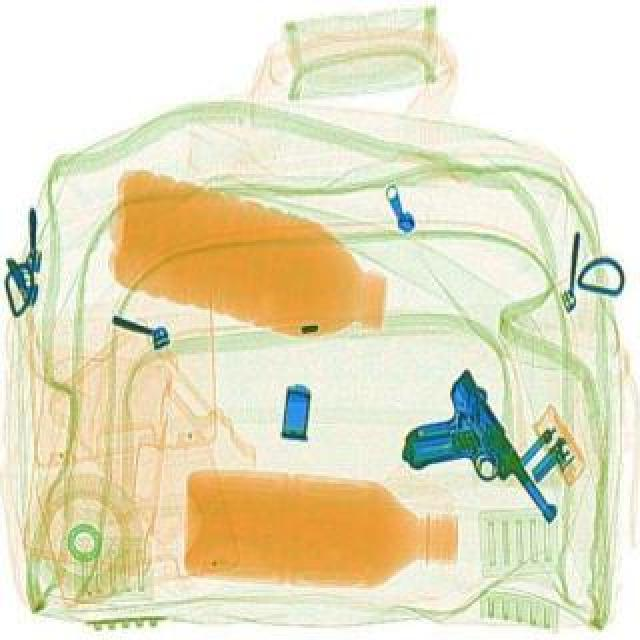gun: (376, 366, 562, 562)
